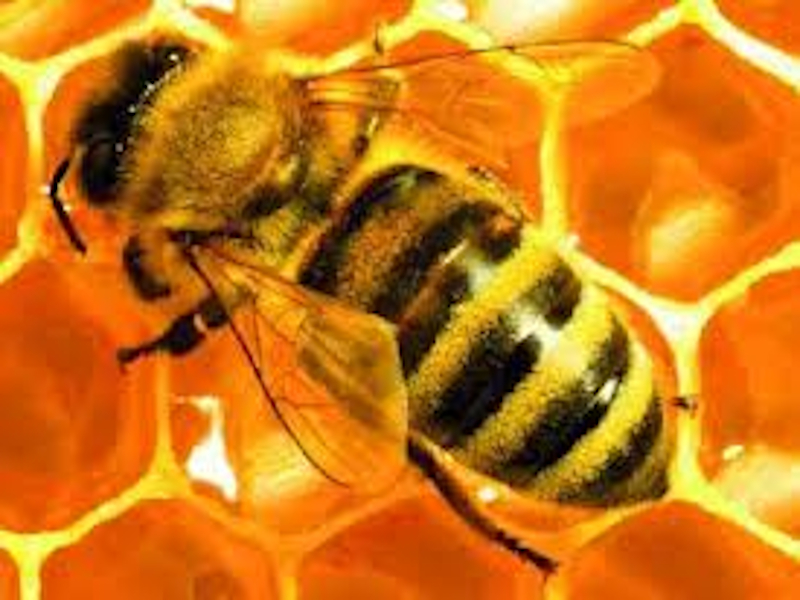abeja: (52, 10, 717, 558)
